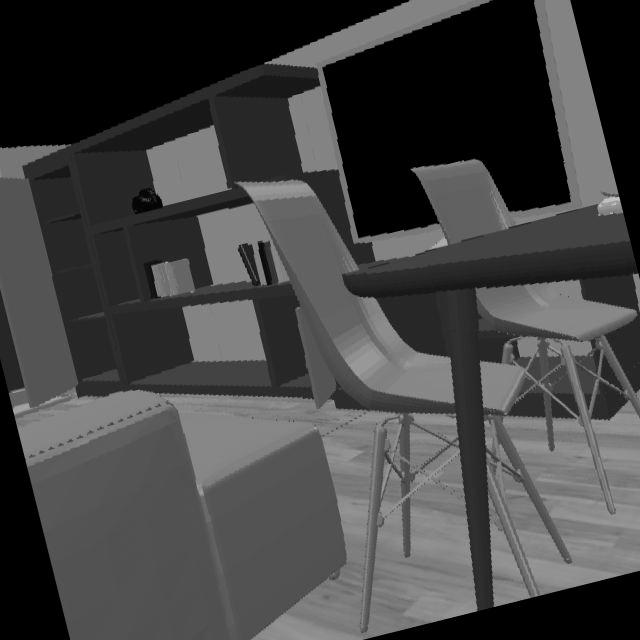book: (143, 259, 194, 300), (257, 242, 278, 285), (239, 245, 260, 286)
bookshelf: (24, 64, 357, 397)
chair: (240, 180, 456, 557), (476, 282, 640, 597), (413, 159, 518, 245), (360, 423, 395, 635)
monitor: (318, 0, 584, 245)
sofa: (17, 392, 343, 640)
table: (344, 205, 639, 609)
